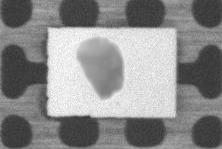DIE_INK: (76, 37, 123, 100)
